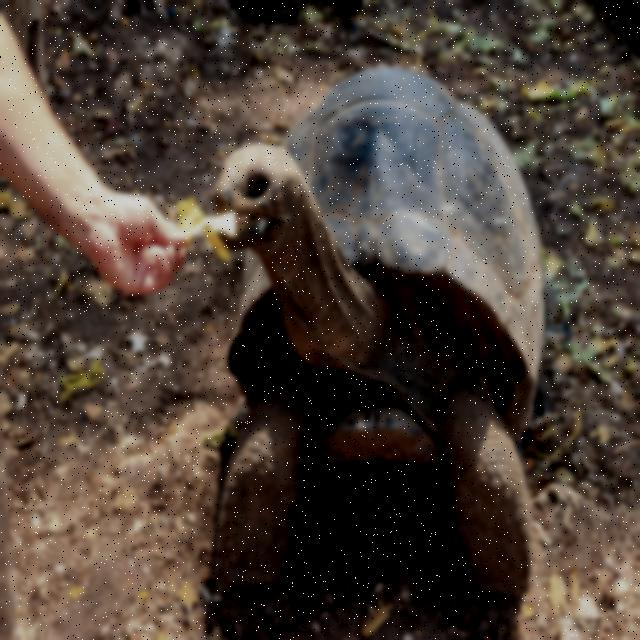tortoise: (188, 52, 556, 640)
